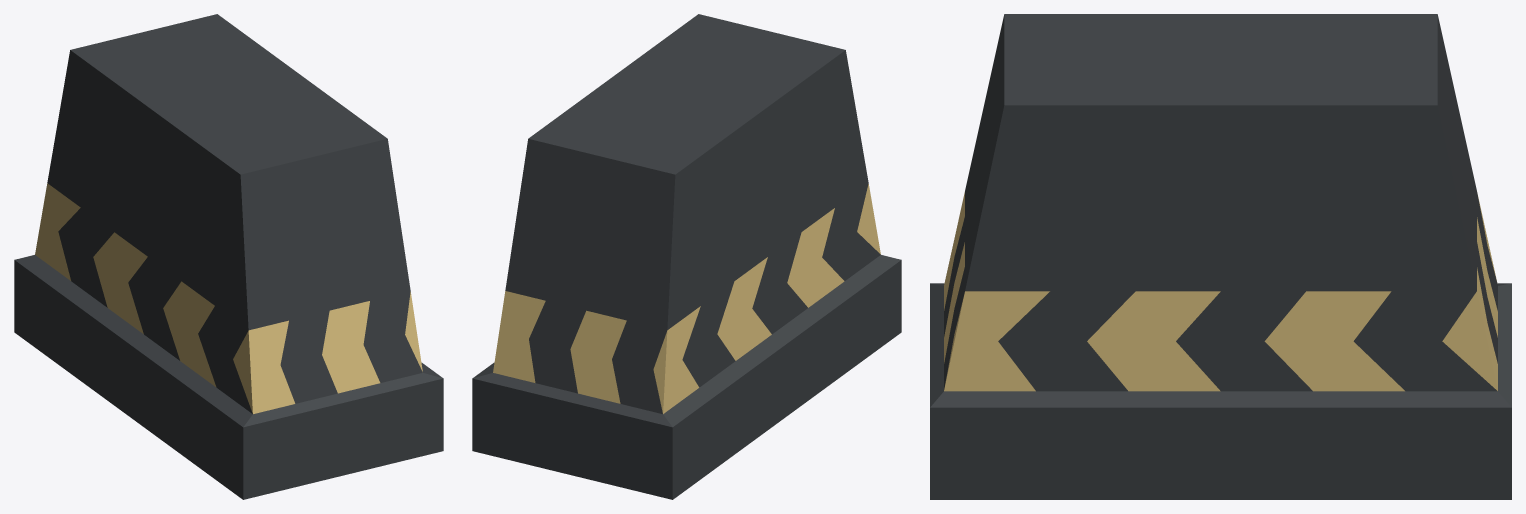
Rendered from Wall but suspisiouc.fbx.
3 renders of one model, left to right at view 1: azimuth 30°, elevation 25°; view 2: azimuth 150°, elevation 25°; view 3: azimuth 270°, elevation 25°, orthographic. The views are drawn at different scales.
Visible parts, largest first — view 1: Cube; view 2: Cube; view 3: Cube.
Boxes of the visible parts, x1,y1,x2,y2 form: Cube: [14, 14, 443, 499]; Cube: [472, 14, 901, 499]; Cube: [930, 14, 1511, 499].
Size of the model in its own units: 101 by 143 by 200.
